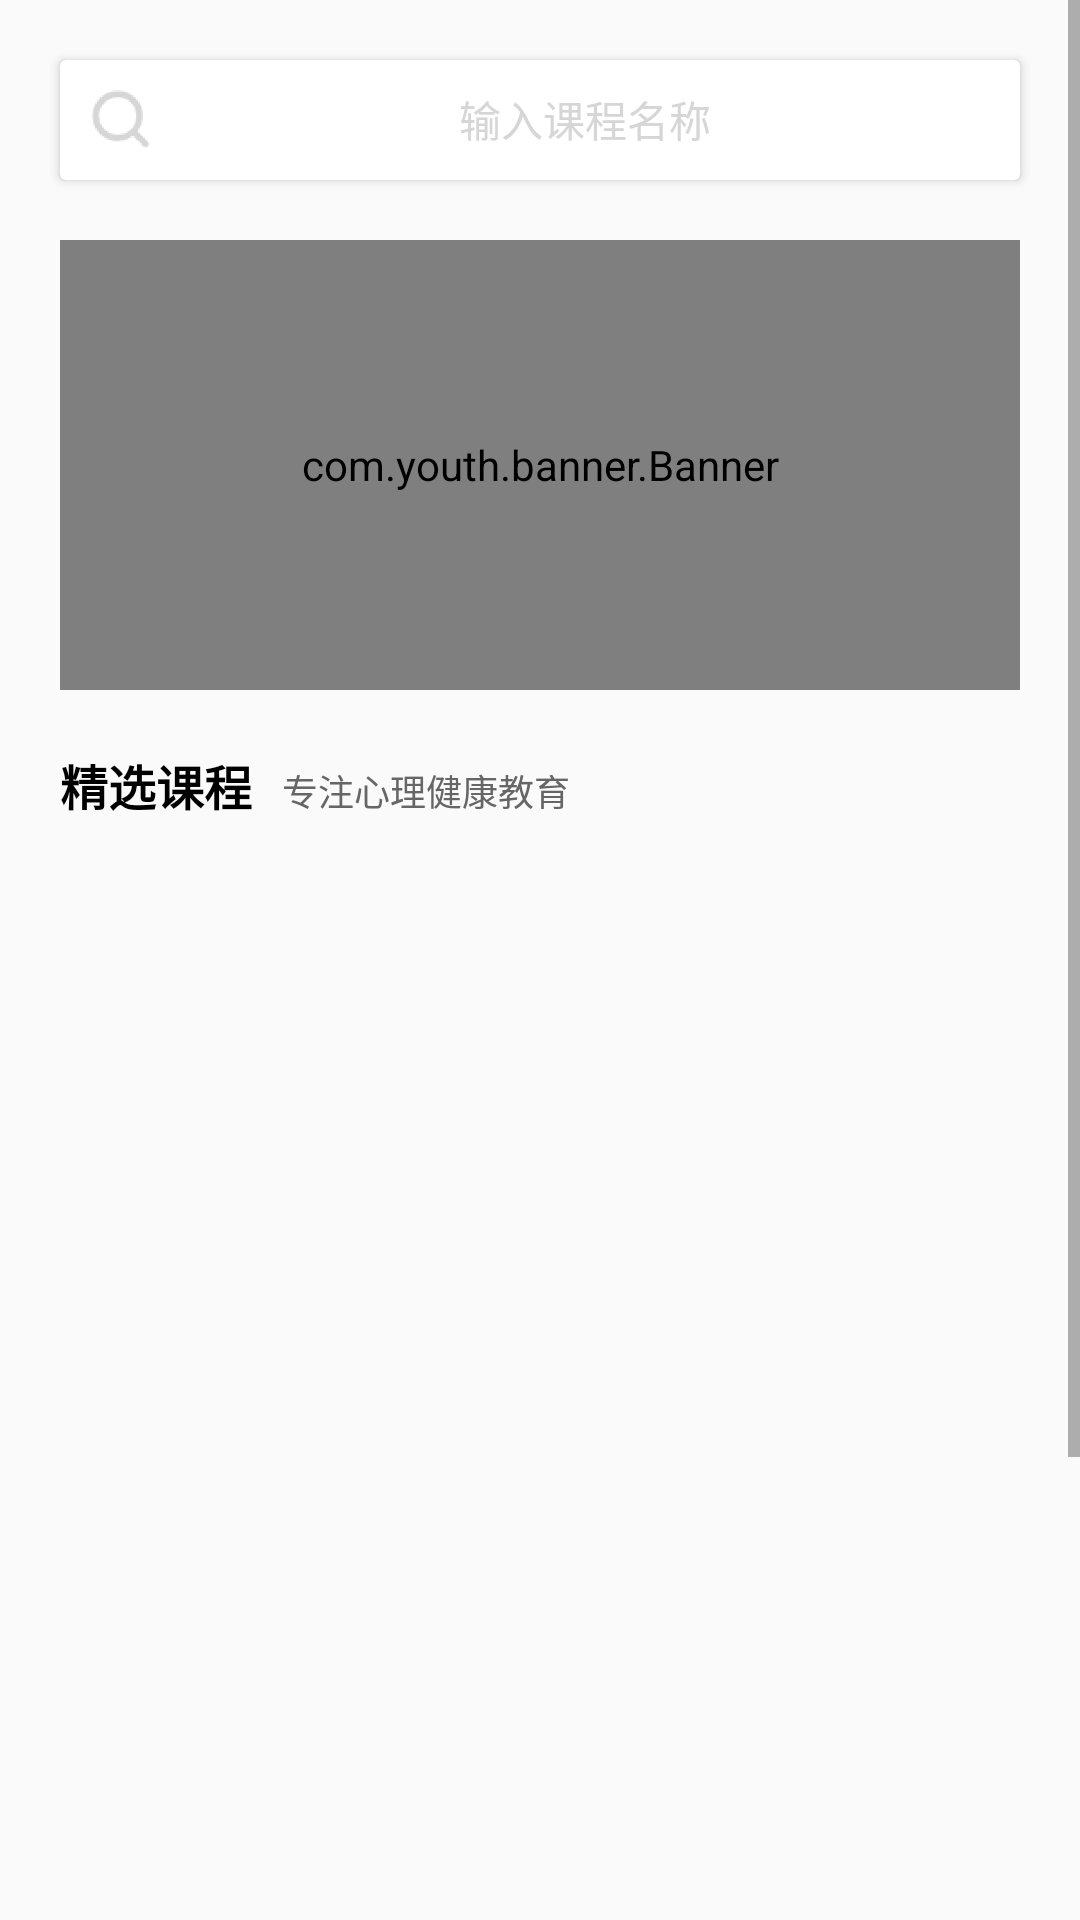

Icon bounding boxes for this 1080x1920 phone screenshot, format (x1, y1, x2, y2):
search: (93, 92, 148, 147)
